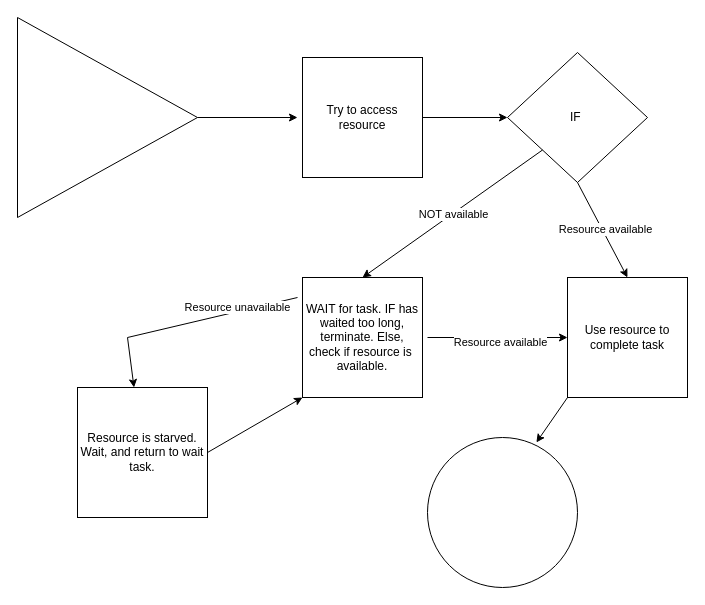
This 705x605 diagram has some shape labels left out. Here are the shapes that lost their labels. From the top down, the centre of each, then its label:
point 107,117: Create Process
point 502,512: END
